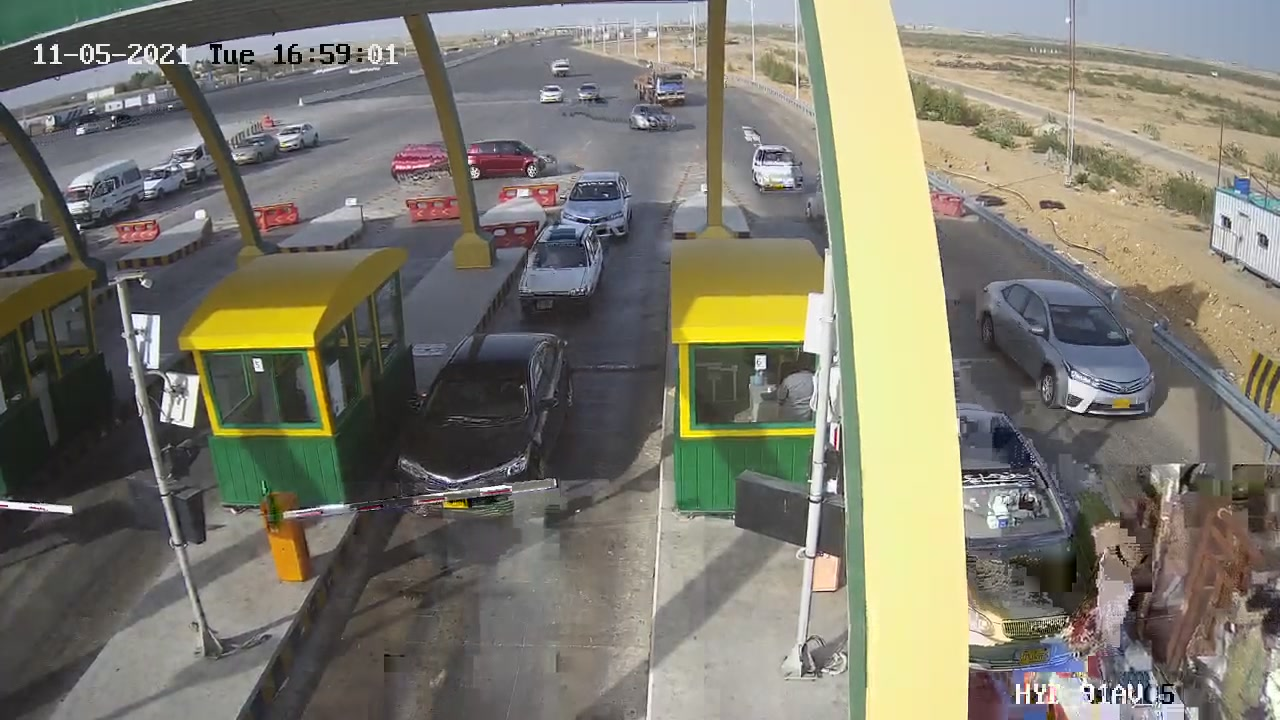F1: (384, 312, 591, 534), (542, 164, 646, 255)
